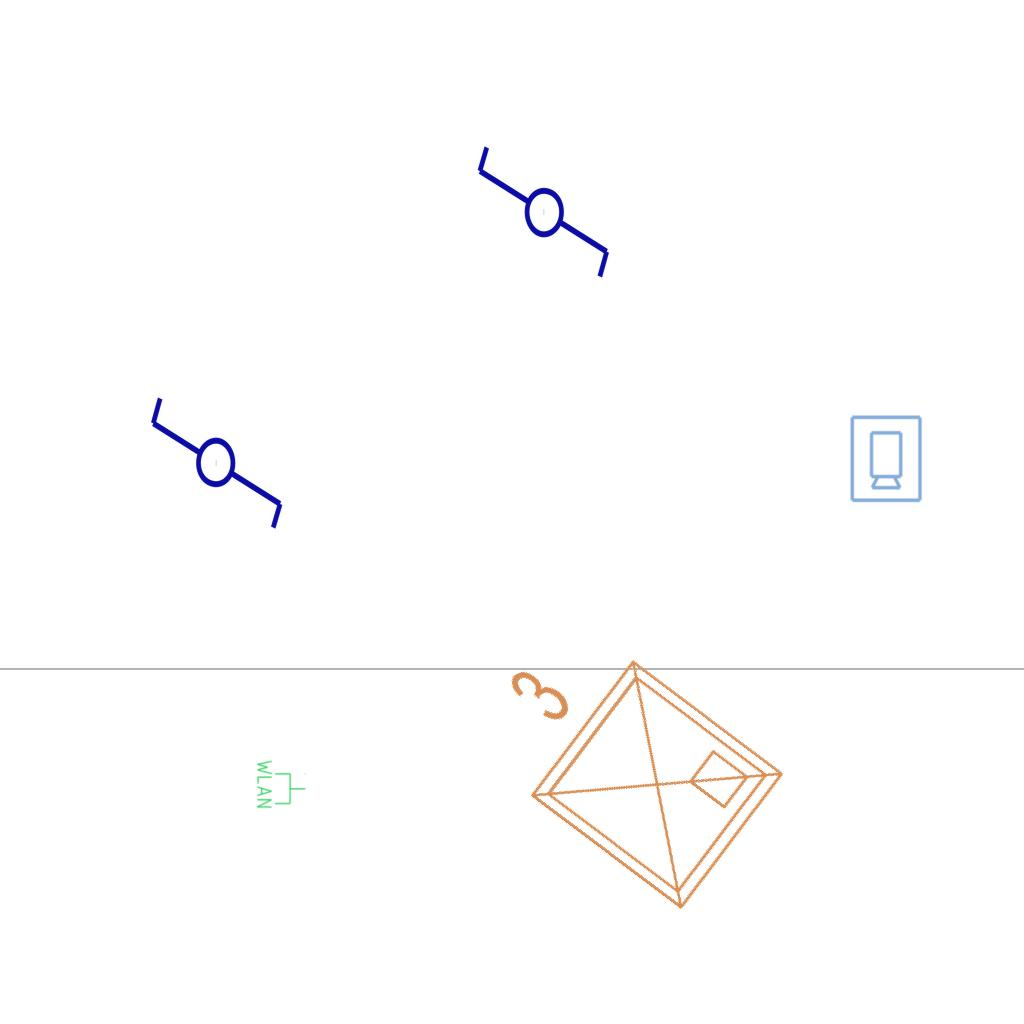Einbaudownlights_LED_Konferenzraeume: (439, 589, 805, 937)
KFO_Kamera_mit_Festobjektiv: (847, 413, 924, 504)
WLAN: (255, 758, 307, 810)
Wechselschalter: (470, 142, 614, 299), (146, 376, 290, 533)
